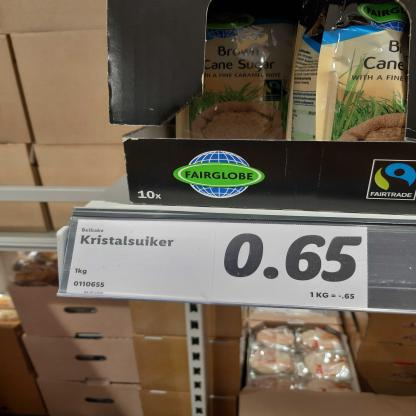prtg: (68, 220, 368, 310)
